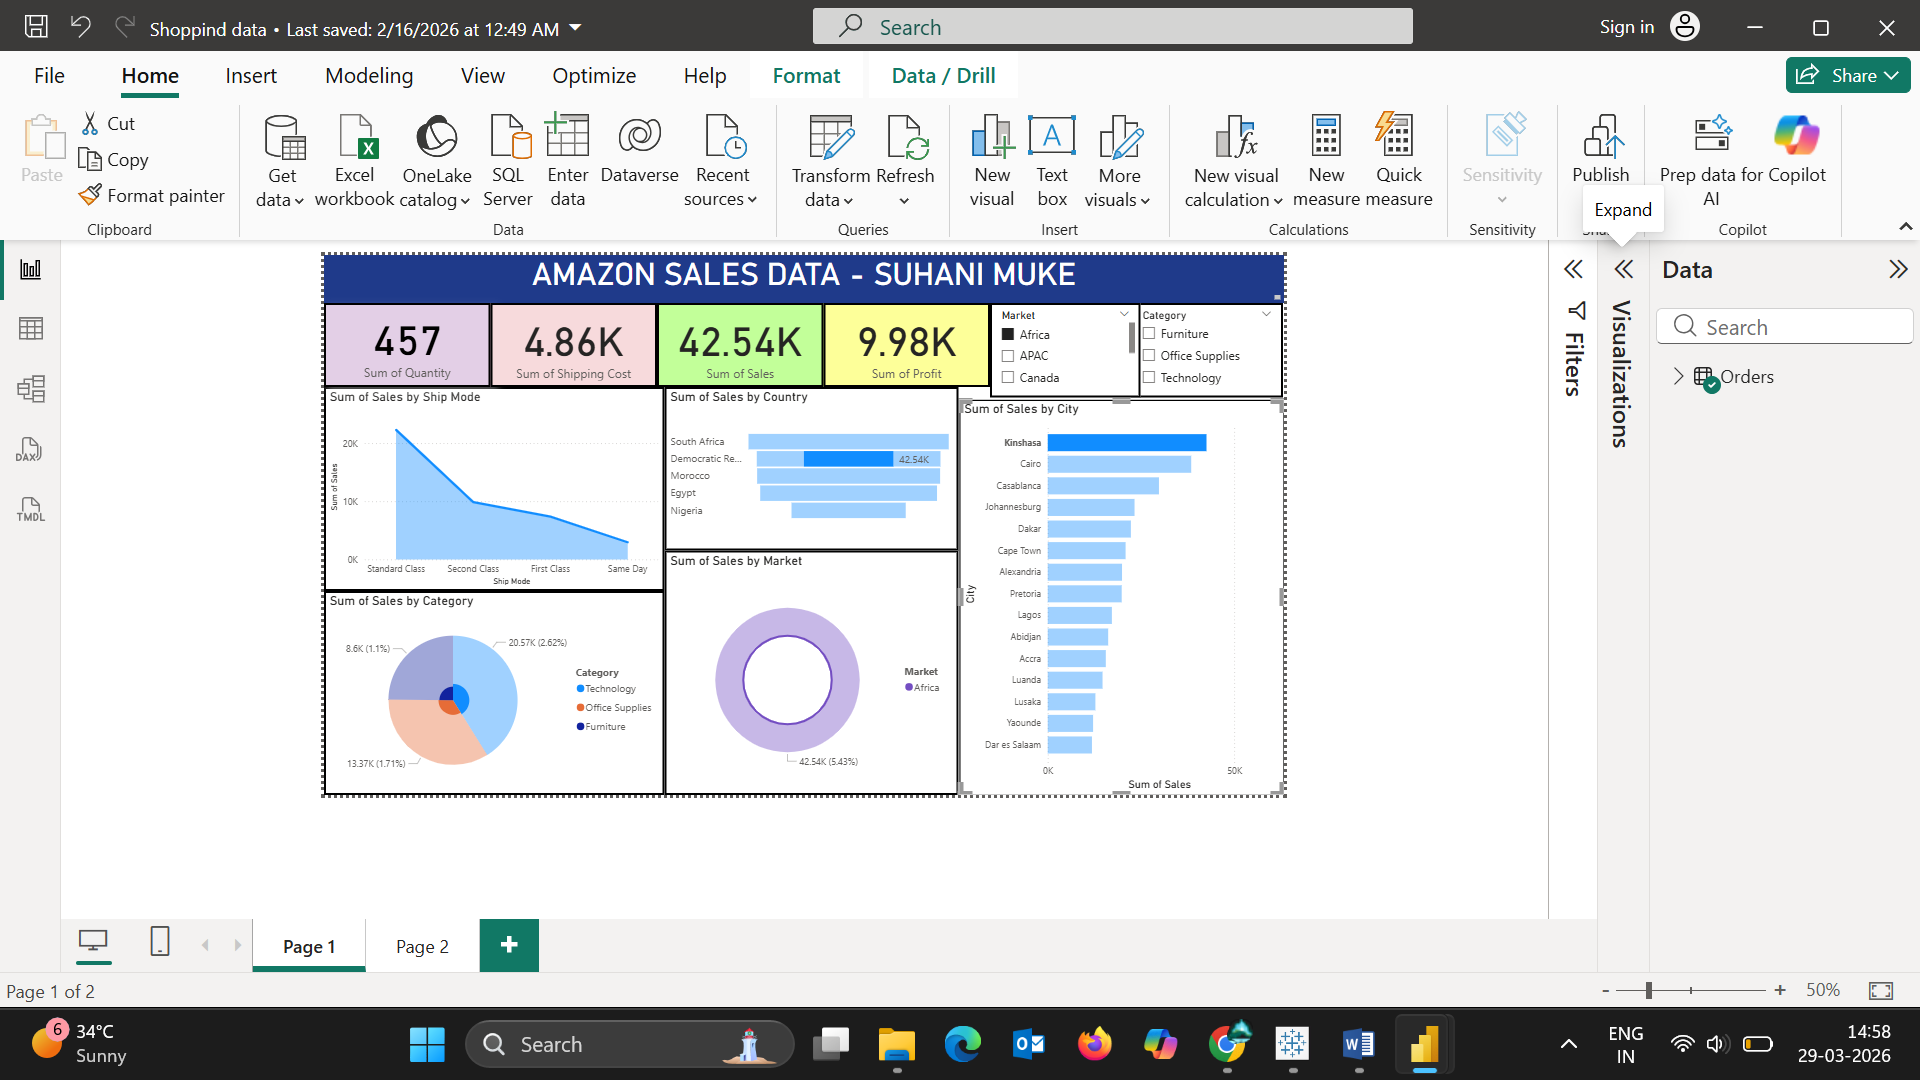

This screenshot's page, from the dashboard's own definition file:
{"tool":"powerbi","page":{"name":"Page 1","canvas":[1280,720],"ordinal":0},"visuals":[{"type":"pieChart","fields":{"Category":["Orders.Category"],"Y":["Sum(Orders.Sales)"]},"box":[0,448,454,272],"z":0},{"type":"donutChart","fields":{"Y":["Sum(Orders.Sales)"],"Category":["Orders.Market"]},"box":[454,394,392,326],"z":1000},{"type":"barChart","fields":{"Category":["Orders.City"],"Y":["Sum(Orders.Sales)"]},"box":[928,360,352,360],"z":2000},{"type":"funnel","fields":{"Category":["Orders.Country"],"Y":["Sum(Orders.Sales)"]},"box":[454,176,392,218],"z":3000},{"type":"textbox","title":"AMAZON SALES DATA - SUHANI MUKE","box":[0,0,1280,64],"z":4000},{"type":"areaChart","fields":{"Y":["Sum(Orders.Sales)"],"Category":["Orders.Ship Mode"]},"box":[0,176,454,272],"z":5000},{"type":"card","fields":{"Values":["Sum(Orders.Sales)"]},"box":[554,64,232,112],"z":6000},{"type":"card","fields":{"Values":["Sum(Orders.Quantity)"]},"box":[0,64,232,112],"z":7000},{"type":"card","fields":{"Values":["Sum(Orders.Profit)"]},"box":[988,64,232,112],"z":8000},{"type":"card","fields":{"Values":["Sum(Orders.Shipping Cost)"]},"box":[278,64,232,112],"z":9000},{"type":"slicer","fields":{"Values":["Orders.Category"]},"box":[1078,224,202,126],"z":10000},{"type":"slicer","fields":{"Values":["Orders.Market"]},"box":[876,224,202,126],"z":11000}]}

Visuals, with their boxes on the page's 1280x720 design canvas (x1, y1, x2, y2). These are canvas units, not pixel positions in the 1920x1080 screenshot, which may show the page scaled, cropped or inside an application window:
pieChart - Orders.Category x Sum(Orders.Sales): (left=0, top=448, right=454, bottom=720)
donutChart - Sum(Orders.Sales) x Orders.Market: (left=454, top=394, right=846, bottom=720)
barChart - Orders.City x Sum(Orders.Sales): (left=928, top=360, right=1280, bottom=720)
funnel - Orders.Country x Sum(Orders.Sales): (left=454, top=176, right=846, bottom=394)
"AMAZON SALES DATA - SUHANI MUKE" textbox: (left=0, top=0, right=1280, bottom=64)
areaChart - Sum(Orders.Sales) x Orders.Ship Mode: (left=0, top=176, right=454, bottom=448)
card - Sum(Orders.Sales): (left=554, top=64, right=786, bottom=176)
card - Sum(Orders.Quantity): (left=0, top=64, right=232, bottom=176)
card - Sum(Orders.Profit): (left=988, top=64, right=1220, bottom=176)
card - Sum(Orders.Shipping Cost): (left=278, top=64, right=510, bottom=176)
slicer - Orders.Category: (left=1078, top=224, right=1280, bottom=350)
slicer - Orders.Market: (left=876, top=224, right=1078, bottom=350)
